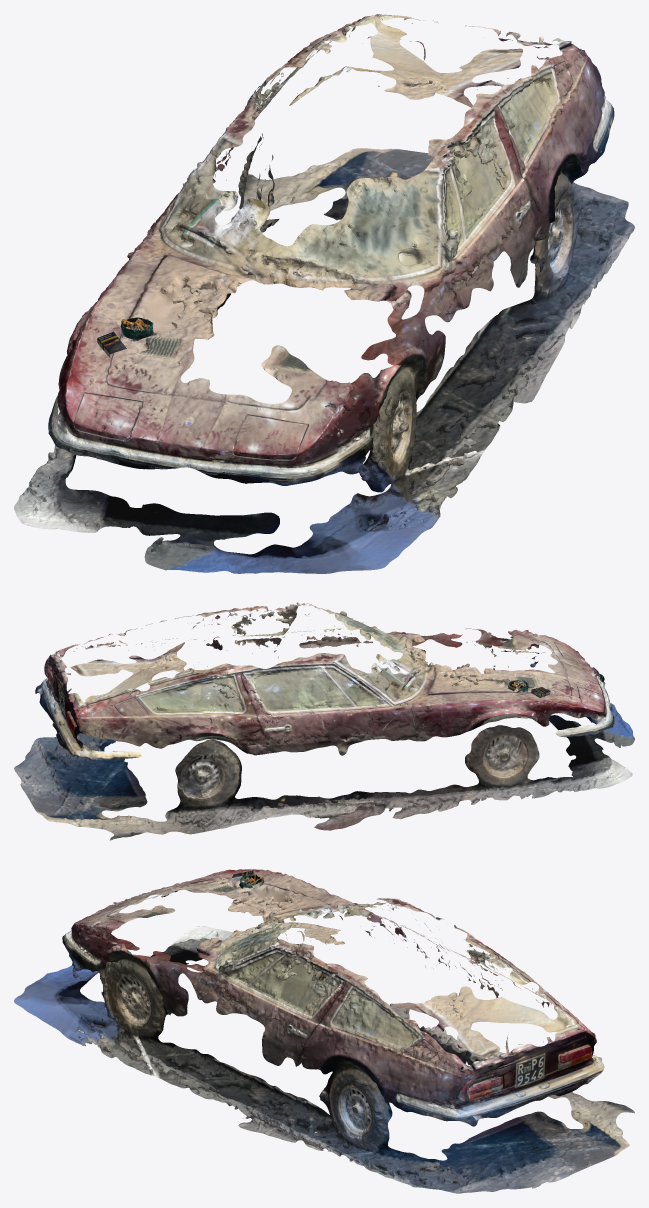
3 views of the same model, one above another, from view 1: azimuth 30°, elevation 25°; view 2: azimuth 150°, elevation 25°; view 3: azimuth 270°, elevation 25° (orthographic). The views are drawn at different scales.
Parts seen in each view (by area): view 1: Nov 13, 03:00 PM; view 2: Nov 13, 03:00 PM; view 3: Nov 13, 03:00 PM.
Boxes of the visible parts, x1,y1,x2,y2 form: Nov 13, 03:00 PM: (14, 14, 634, 573); Nov 13, 03:00 PM: (14, 602, 634, 840); Nov 13, 03:00 PM: (14, 869, 634, 1193).
Size of the model in its own units: 4.72 by 1.38 by 4.63.
Materials: 4 (4 with a texture image).
